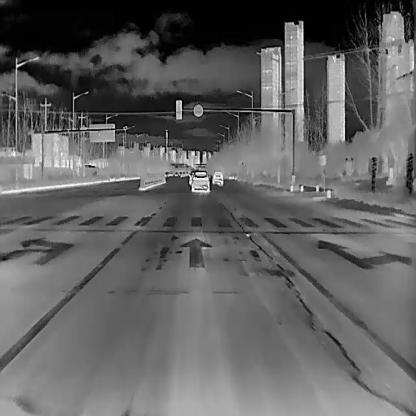car: (191, 170, 209, 193), (212, 169, 223, 185), (188, 169, 194, 184), (164, 170, 169, 175), (174, 171, 178, 176), (169, 170, 173, 175), (178, 171, 182, 175)
